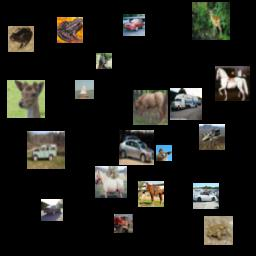airplane: (199, 124, 225, 150)
automobile: (27, 131, 65, 169), (119, 130, 154, 165), (193, 183, 219, 209), (41, 199, 63, 221), (123, 14, 145, 36)
cat: (156, 145, 172, 161)
deer: (192, 2, 230, 40), (7, 80, 45, 118)
frog: (204, 216, 233, 245), (8, 26, 34, 52), (57, 17, 83, 43)
ship: (75, 80, 94, 99)
truck: (170, 88, 202, 120), (114, 214, 133, 233)
